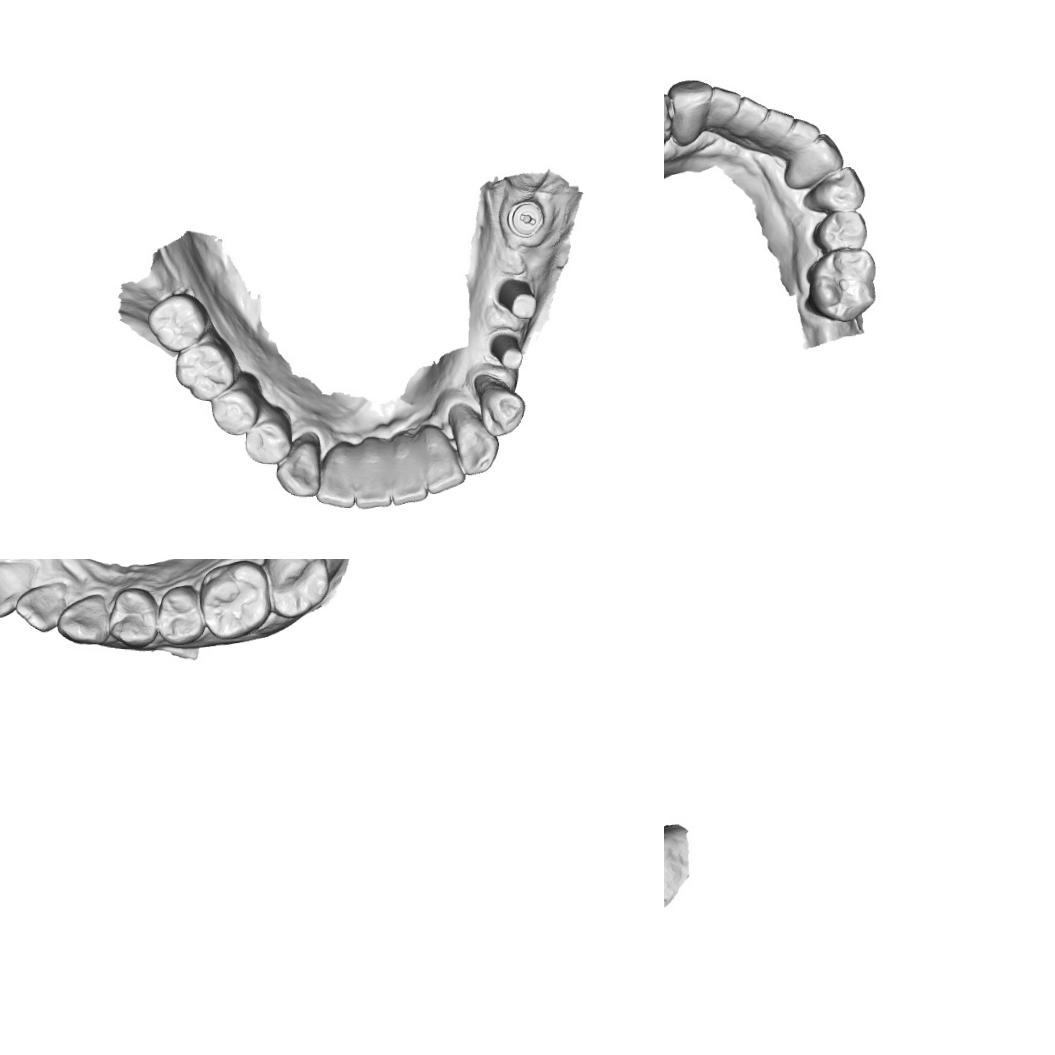abutment: (492, 274, 542, 322), (486, 328, 526, 372)
canine: (446, 402, 502, 477), (664, 78, 714, 148), (274, 428, 322, 498), (55, 590, 112, 646), (792, 131, 846, 181)
implant_minus: (504, 196, 548, 239)
incisor: (418, 424, 467, 496), (352, 435, 396, 512), (14, 580, 72, 634), (316, 439, 358, 510), (389, 434, 430, 506), (0, 559, 39, 619), (726, 95, 769, 139), (704, 85, 743, 130), (754, 108, 796, 148), (786, 117, 822, 156)
molar: (197, 559, 272, 642), (804, 246, 878, 322), (173, 336, 237, 406), (263, 559, 333, 620), (146, 290, 212, 353)
premolar: (209, 368, 263, 436), (107, 586, 163, 649), (472, 374, 527, 438), (156, 582, 209, 646), (243, 404, 294, 466), (808, 164, 867, 214), (812, 206, 869, 252)
